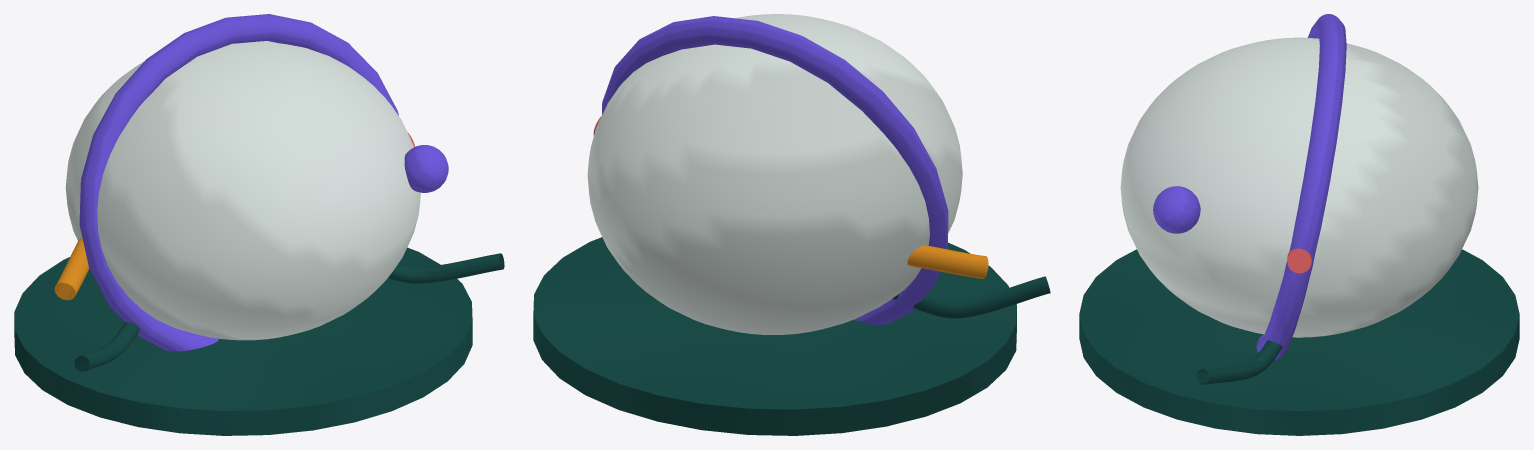
Rendered from 1234_细胞图鉴_细胞质.glb.
3 renders of one model, left to right at view 1: azimuth 30°, elevation 25°; view 2: azimuth 150°, elevation 25°; view 3: azimuth 270°, elevation 25°, orthographic. The views are drawn at different scales.
Visible parts, largest first — view 1: card_1234; view 2: card_1234; view 3: card_1234.
Part boxes in pixels (x1,y1,x2,y2): card_1234: (14,14,504,435); card_1234: (533,14,1050,435); card_1234: (1079,14,1519,435).
Bounding box in the file's own units: 1.42 × 1 × 1.28.
